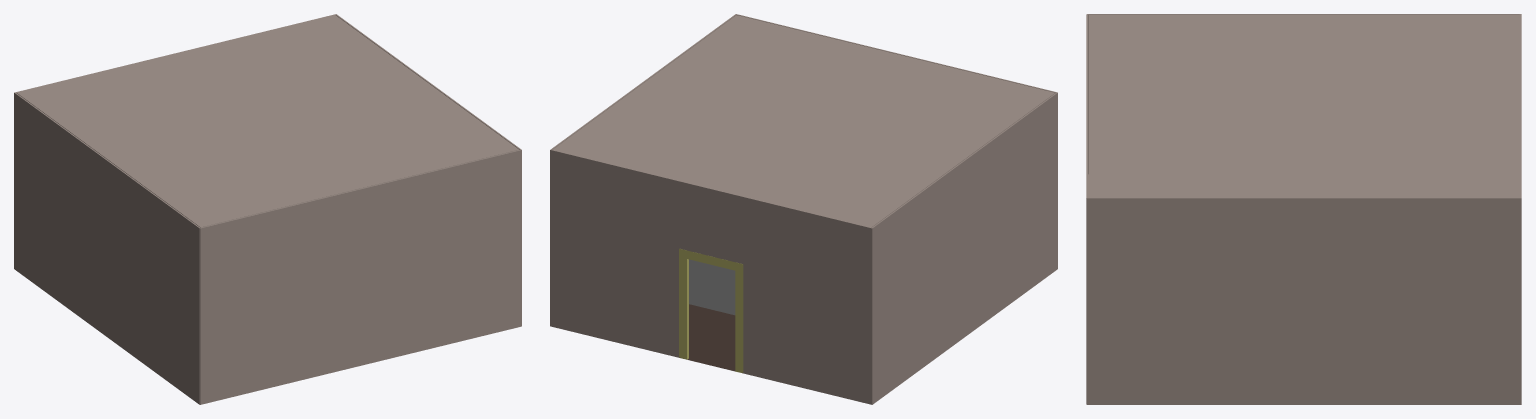
The model's file is Room46_Vault.fbx.
3 renders of one model, left to right at view 1: azimuth 30°, elevation 25°; view 2: azimuth 150°, elevation 25°; view 3: azimuth 270°, elevation 25°, orthographic. The views are drawn at different scales.
Parts seen in each view (by area): view 1: Roof, WallPosZ, WallPosX, WallNegX; view 2: Roof, WallSlicedNegZ, WallPosX, Floor, DoorFrameNegZ, pCube89, WallNegX, WallPosZ; view 3: WallNegX, Roof, WallPosZ, WallPosX, WallSlicedNegZ.
Boxes of the visible parts, x1,y1,x2,y2 form: Roof: [17, 15, 518, 227]; WallPosZ: [200, 149, 521, 404]; WallPosX: [14, 92, 199, 404]; WallNegX: [335, 14, 521, 325]; Roof: [553, 15, 1054, 227]; WallSlicedNegZ: [550, 149, 872, 404]; WallPosX: [870, 92, 1057, 404]; Floor: [679, 304, 742, 373]; DoorFrameNegZ: [679, 248, 743, 372]; pCube89: [689, 259, 735, 315]; WallNegX: [550, 14, 736, 326]; WallPosZ: [736, 14, 1057, 92]; WallNegX: [1087, 197, 1521, 404]; Roof: [1088, 15, 1519, 197]; WallPosZ: [1086, 14, 1088, 404]; WallPosX: [1087, 14, 1521, 174]; WallSlicedNegZ: [1519, 14, 1521, 197].
Bounding box in the file's own units: 802 × 424 × 801.
